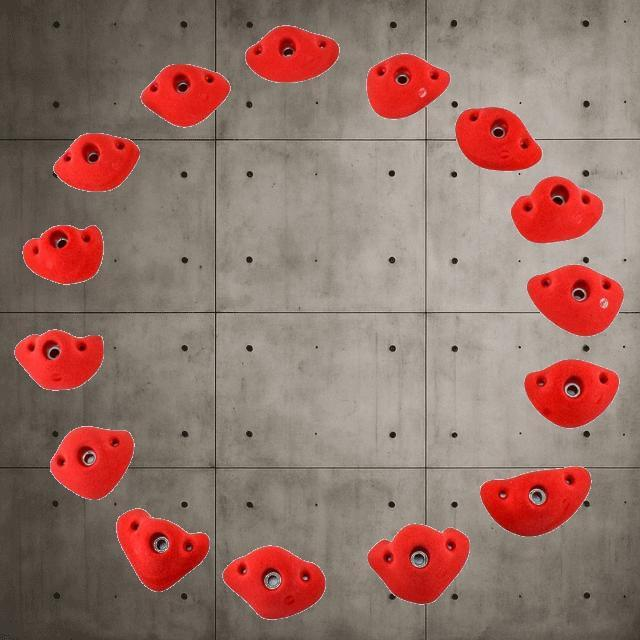Jug: (366, 522, 470, 604), (115, 508, 209, 592), (479, 466, 591, 536), (222, 545, 326, 619), (526, 264, 624, 336), (524, 358, 620, 428), (49, 424, 134, 500), (511, 174, 604, 243), (140, 63, 230, 127), (366, 52, 450, 120), (245, 24, 339, 84), (454, 106, 542, 170), (14, 330, 104, 390), (52, 132, 140, 192), (22, 224, 104, 284)
